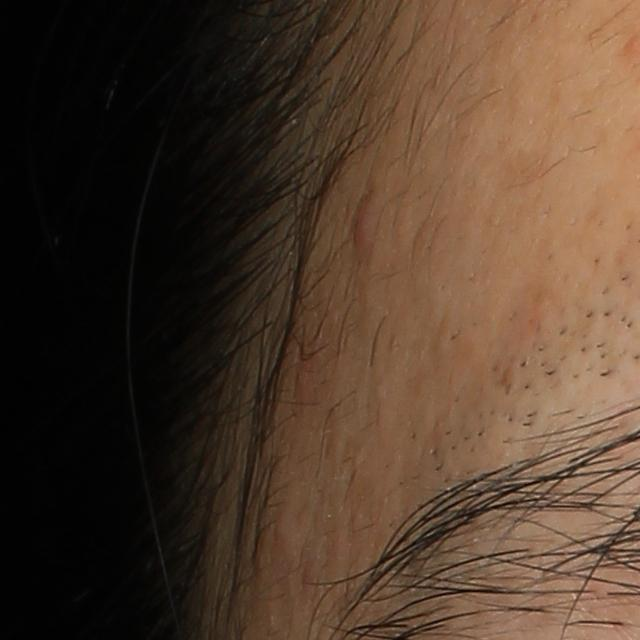papule: (348, 189, 379, 259)
